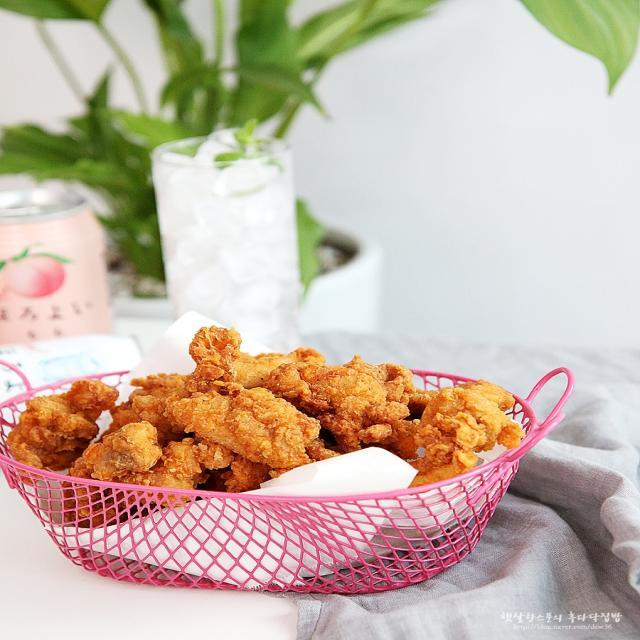Frango: (4, 320, 520, 487)
